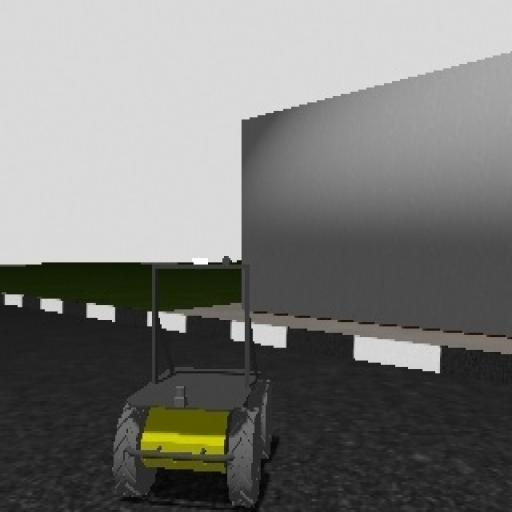huskya200: (108, 250, 291, 512)
